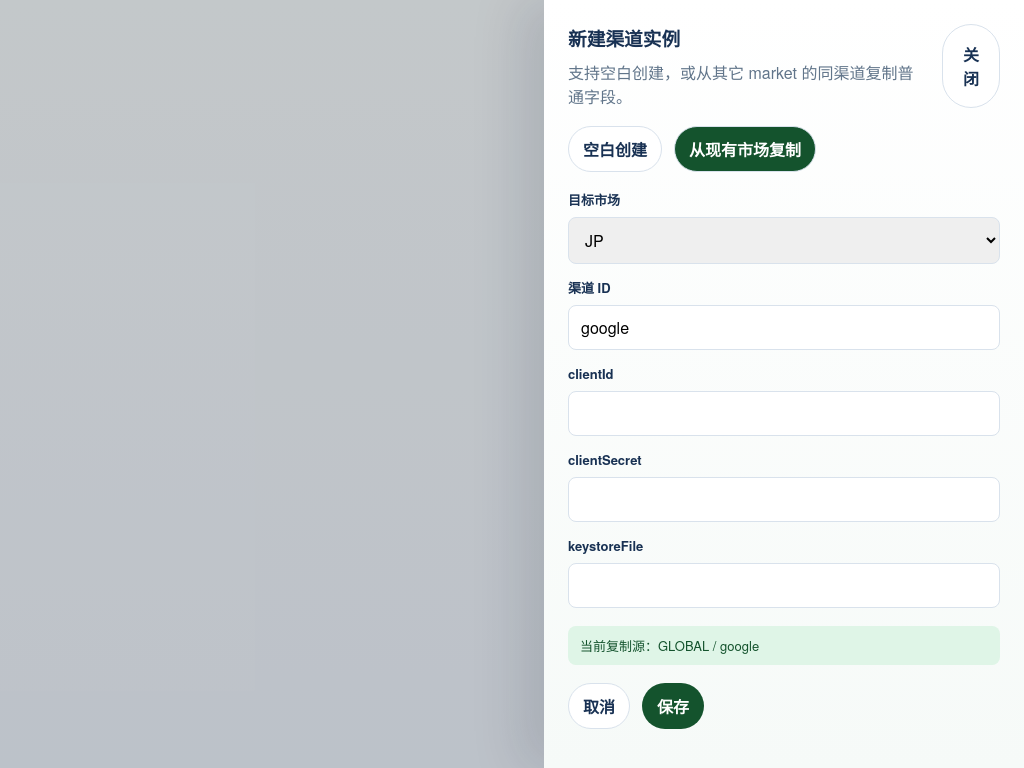
copy mode clears secret and file fields
In the field labelled "clientSecret": [784, 500] box [568,477,1000,522], type "filled-secret"
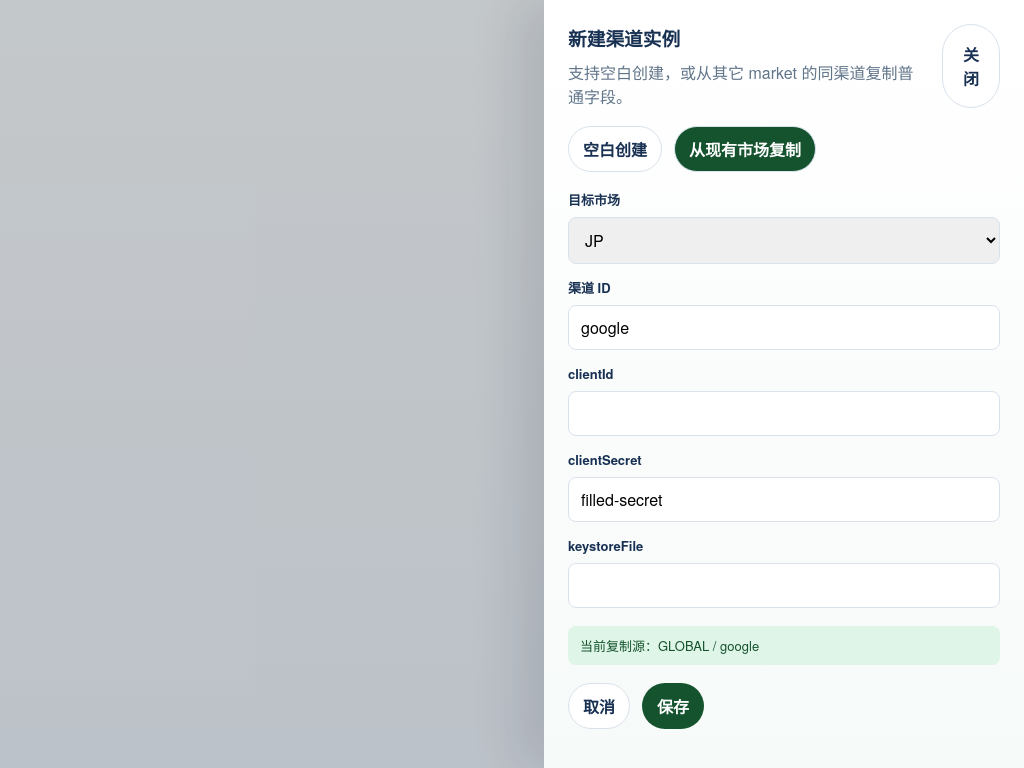
In the field labelled "keystoreFile": [784, 586] box [568,563,1000,608], type "filled-file"
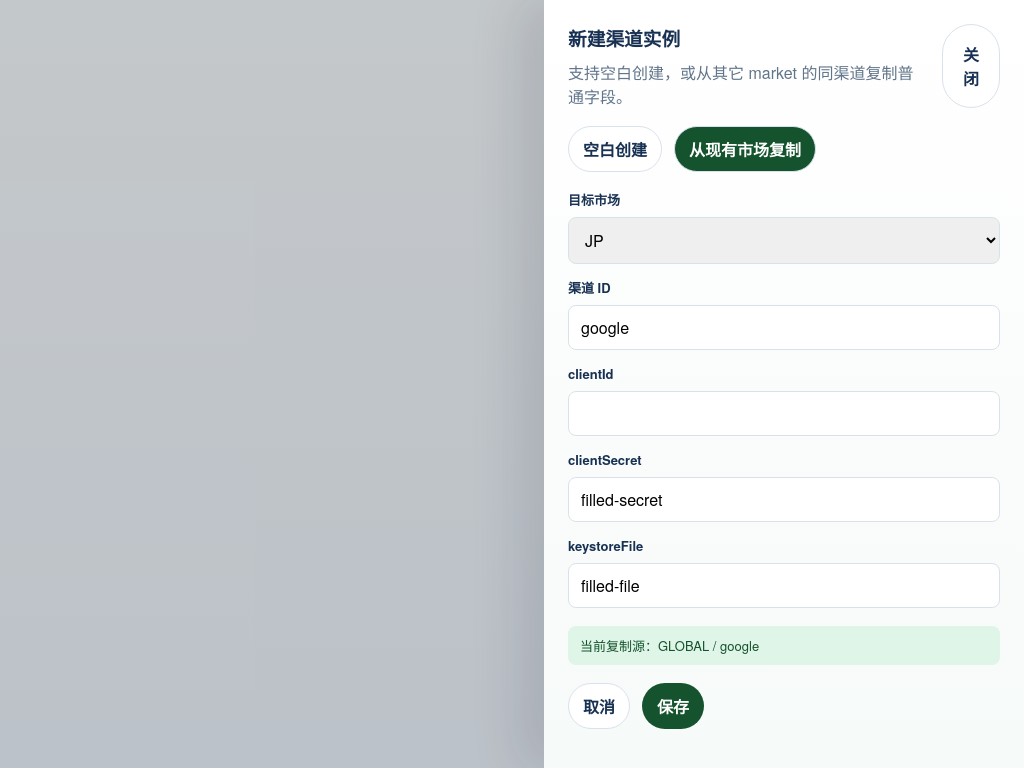
Click the button with aria-label "Copy from existing market": [745, 149] box [674,126,816,172]
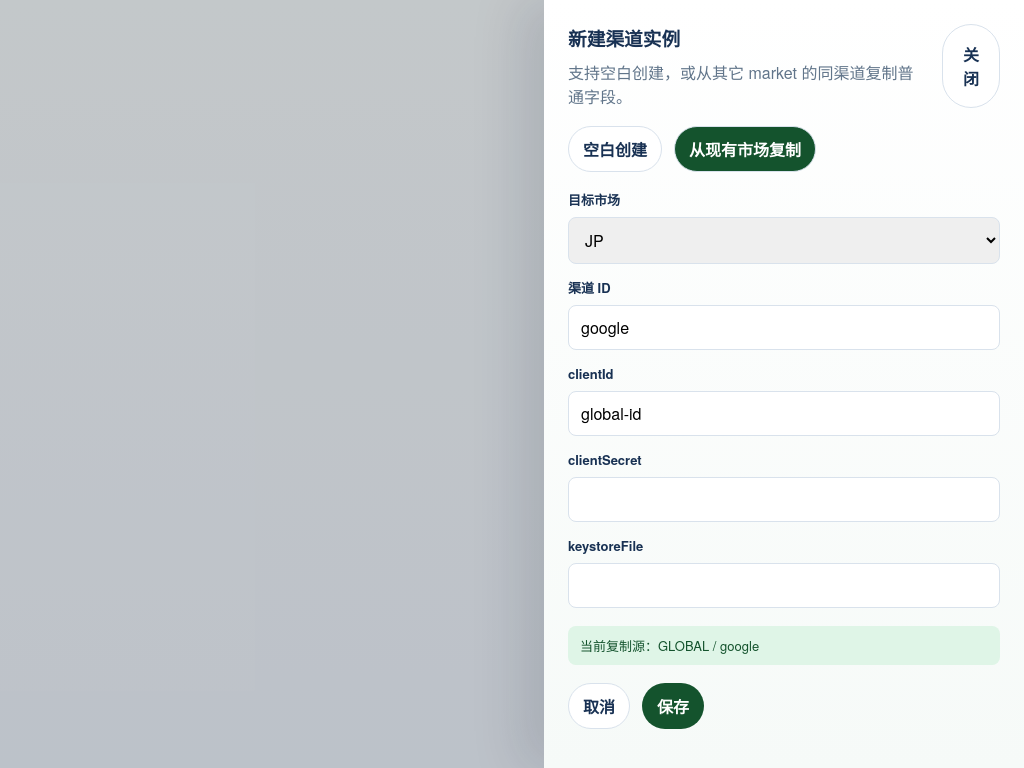
expect the field labelled "clientId" holds "global-id": met, box [568,391,1000,436]
expect the field labelled "clientSecret" is empty: met, box [568,477,1000,522]
expect the field labelled "keystoreFile" is empty: met, box [568,563,1000,608]
